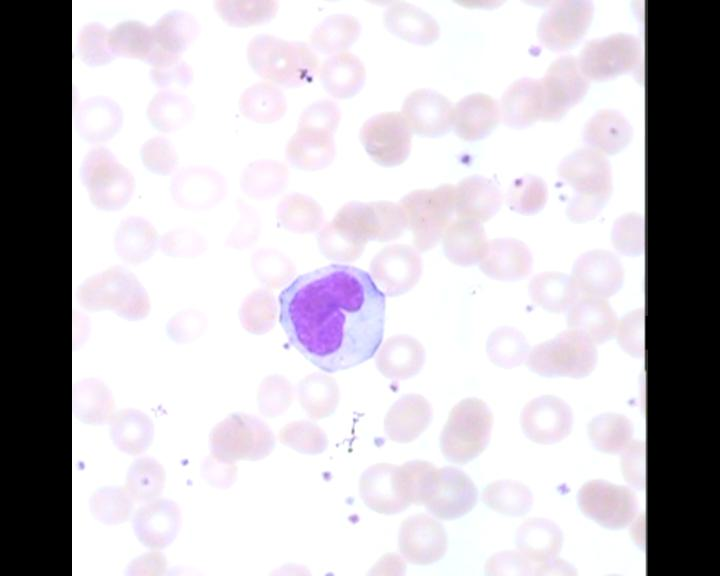mono: (270, 261, 386, 374)
